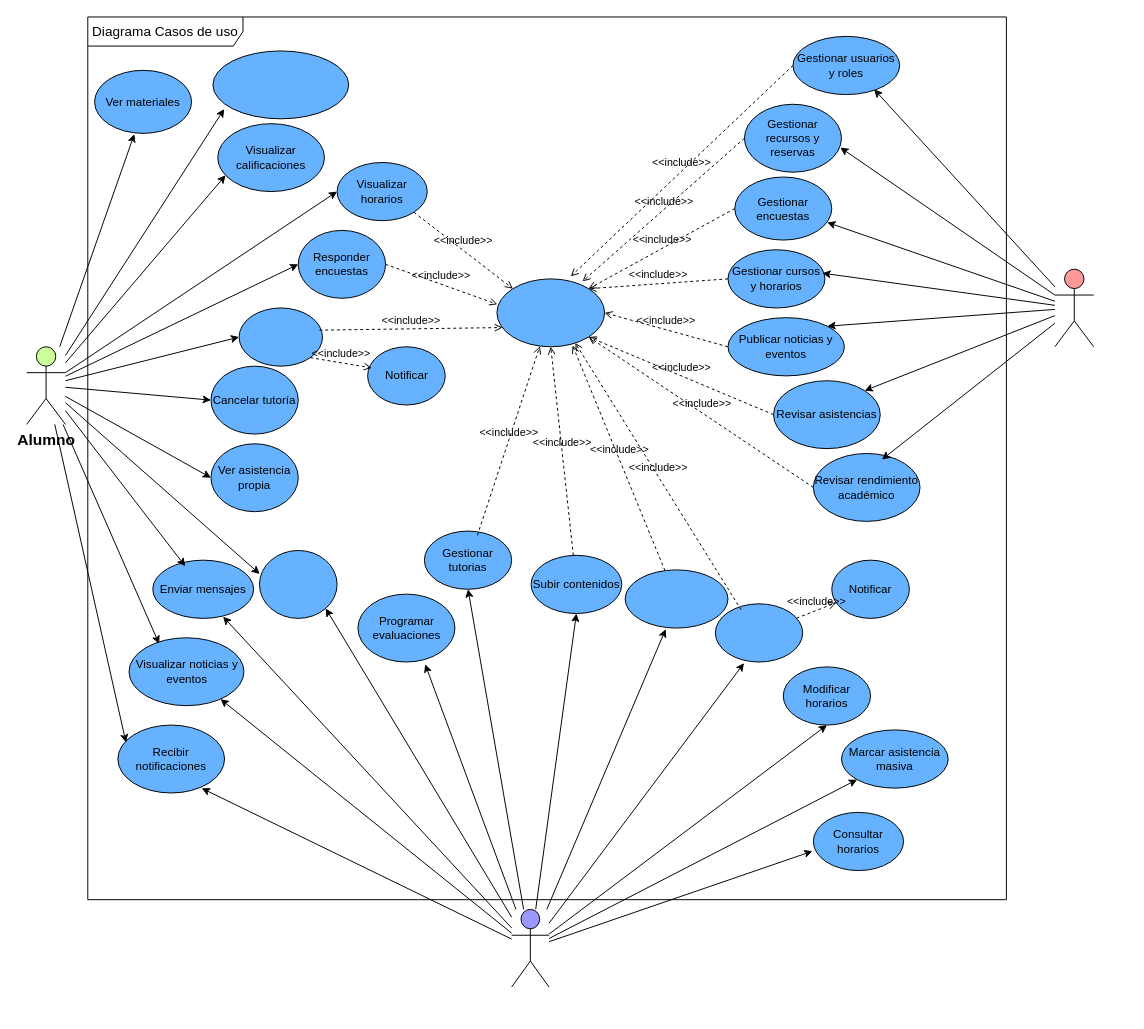
Some shapes in this 1144 by 1029 pixel diagram are drawn without their labels. Each missing label, with the centre of its shape:
Administrador: the point at 1074,307
Autenticarse: the point at 550,312
Profesor: the point at 530,947
Publicar avisos: the point at 758,632
Registrar asistencias: the point at 676,598
Reservar tutoría: the point at 280,336
Visualizar cursos: the point at 298,584
Visualizar tareas (recientes, próximas, atrasadas): the point at 280,84
